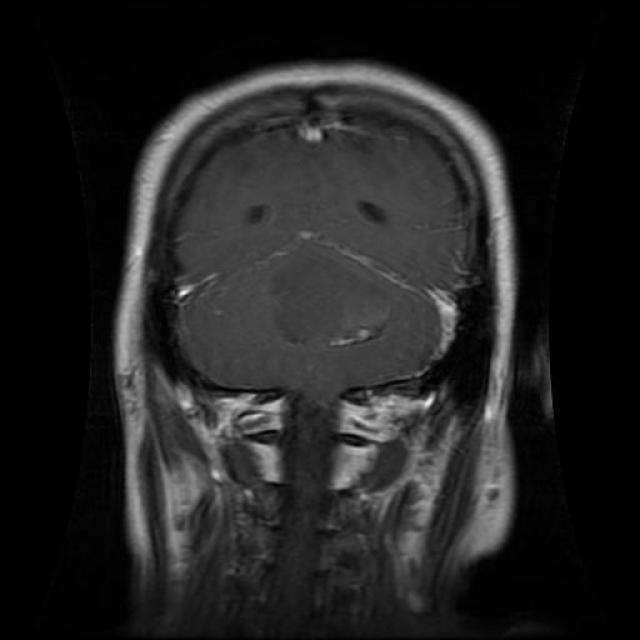glioma: (264, 248, 406, 354)
